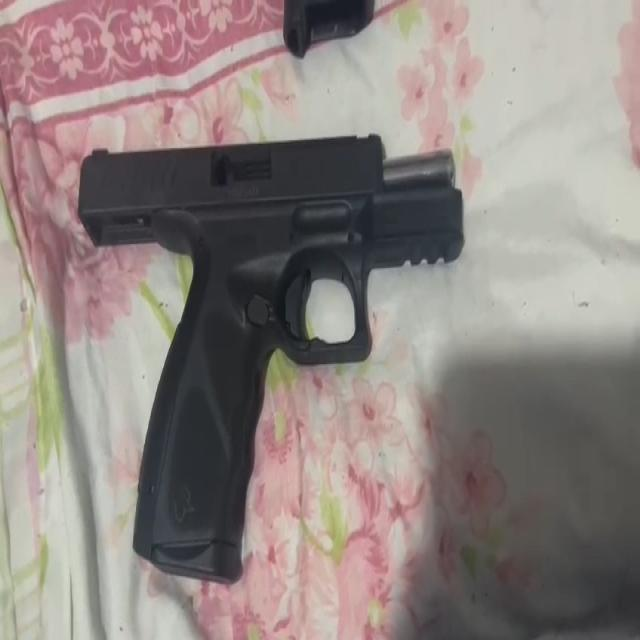guns: (76, 128, 472, 590)
